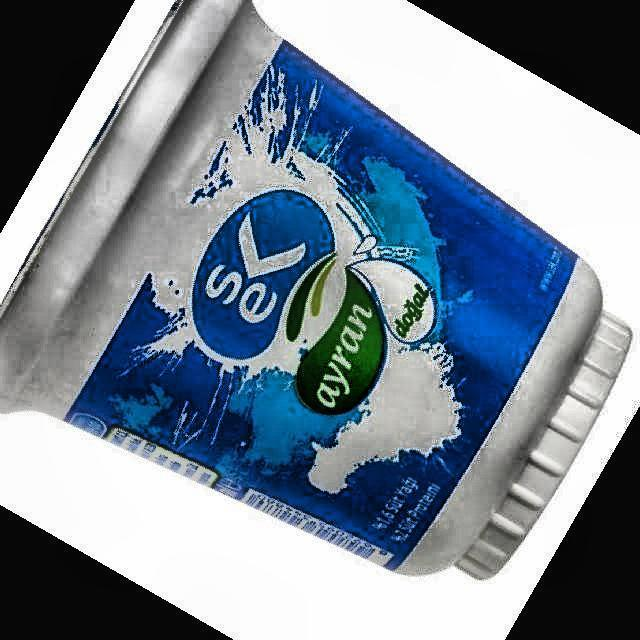plastic: (0, 0, 630, 578)
